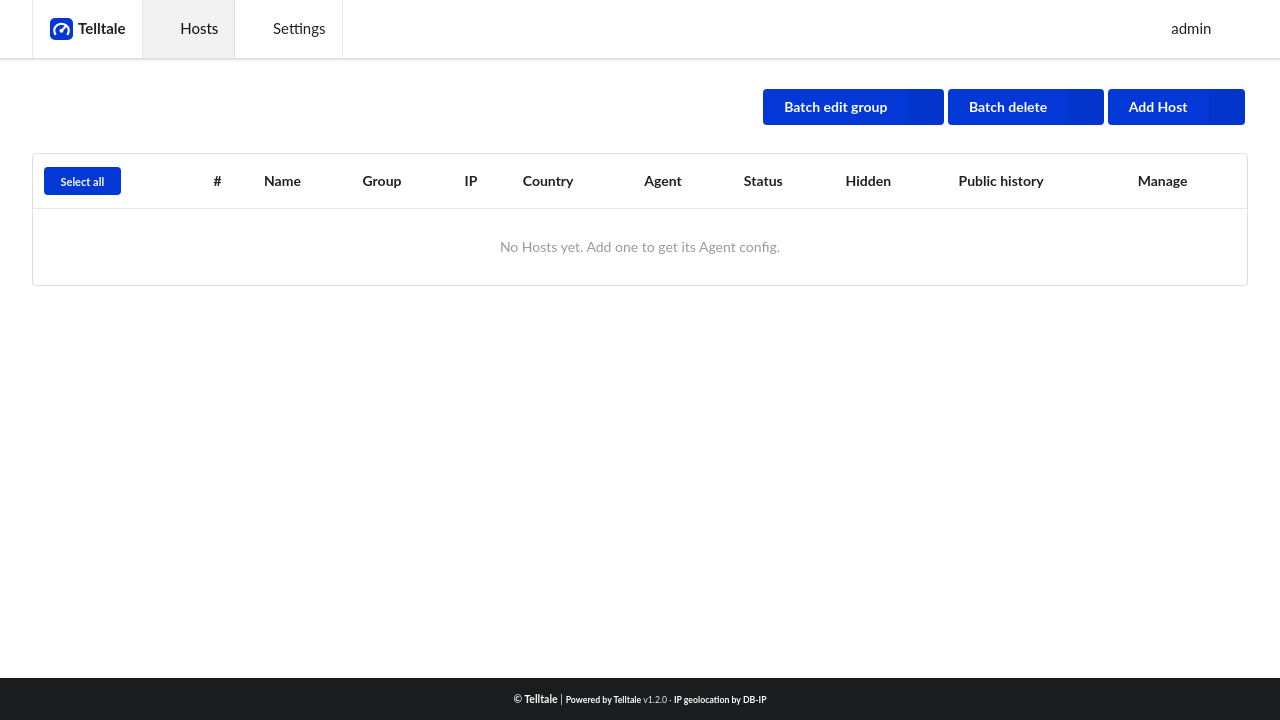
admin panel › logs out only after confirming
This screenshot has width=1280, height=720.
Click the button with aria-label "Account menu" at (1182, 29), box [1134,14,1231,44]
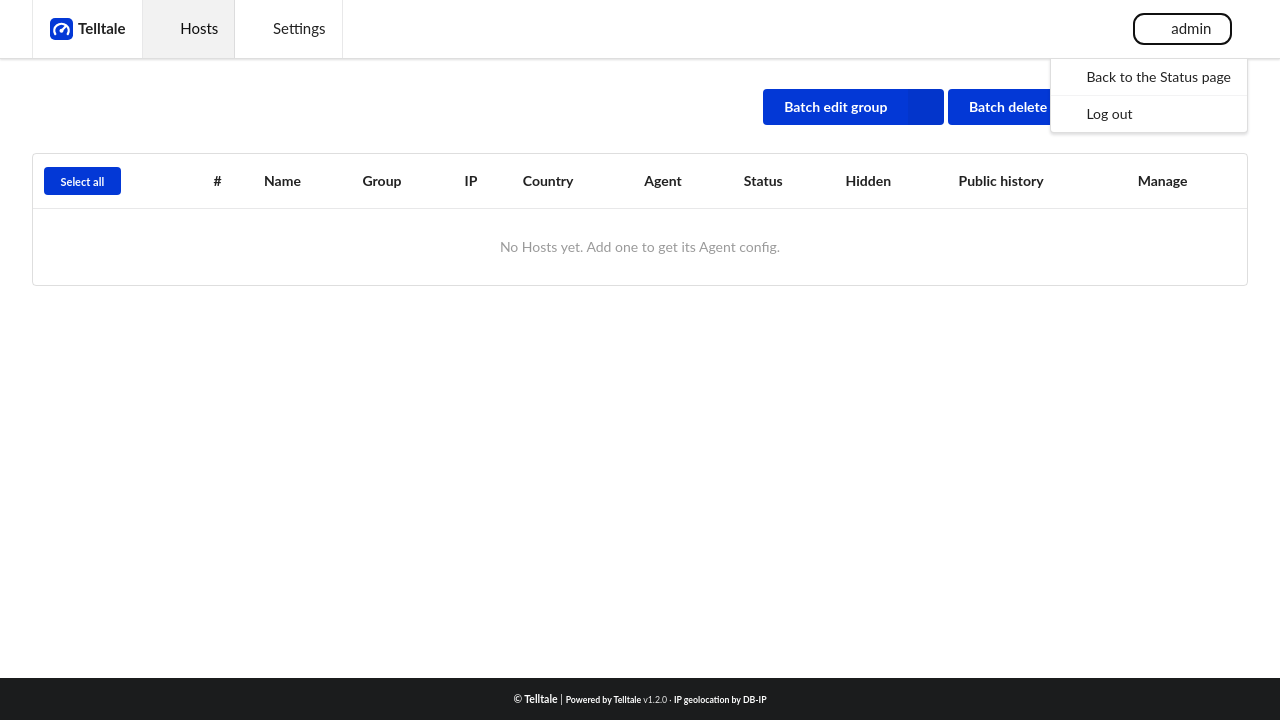
Click the menu item "Log out" at (1149, 113), box [1051,95,1247,132]
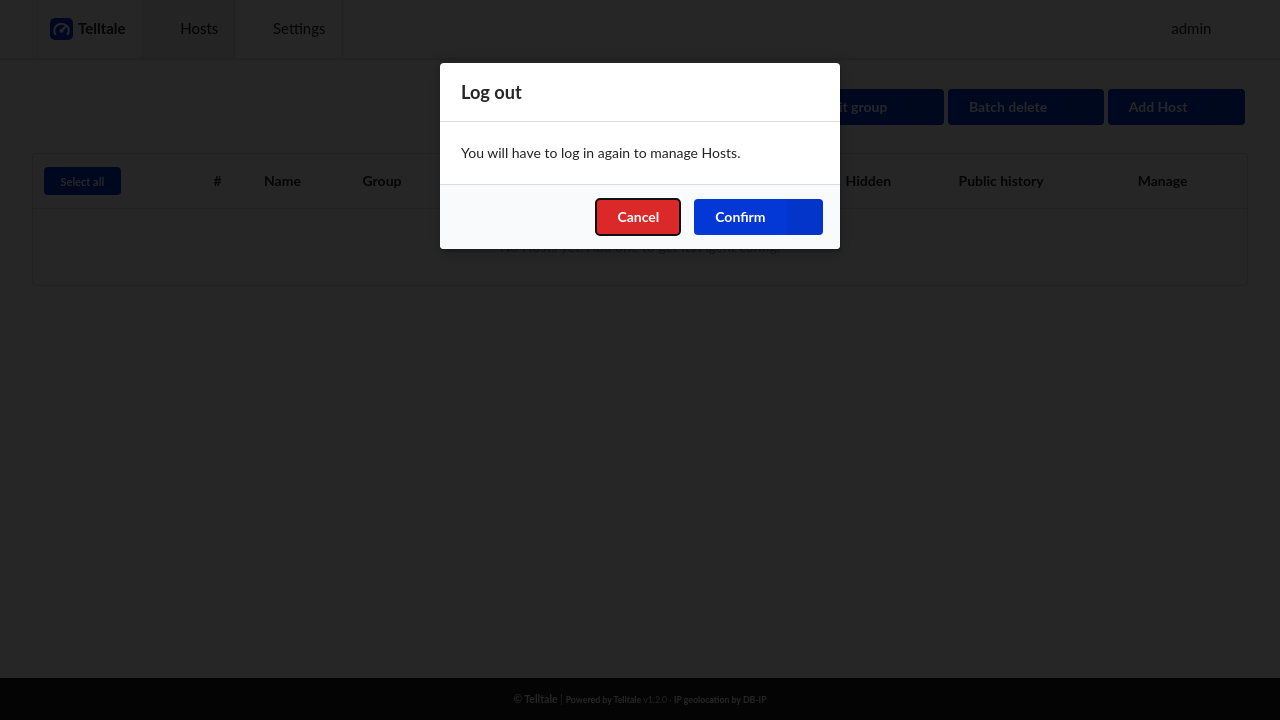
Click the button "Confirm" at (758, 217), box [694,199,822,235]
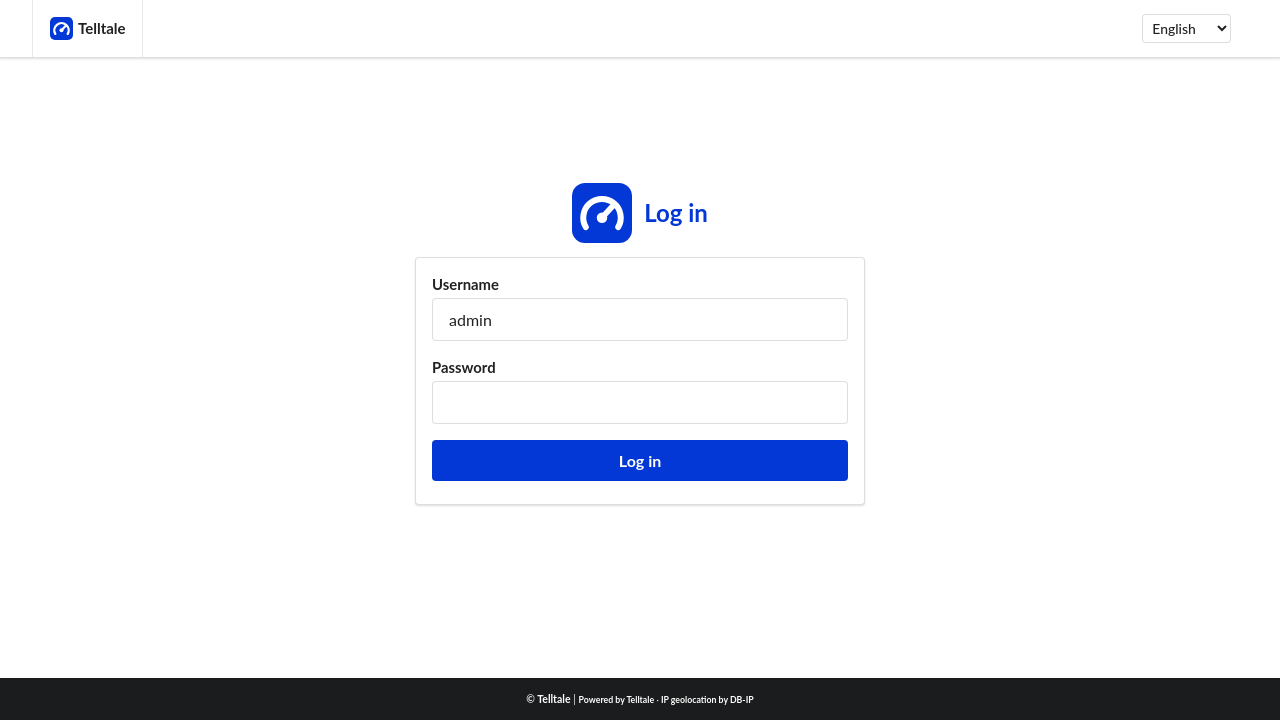
Result: the password field labelled "Password" is shown at [432,381,848,424]
